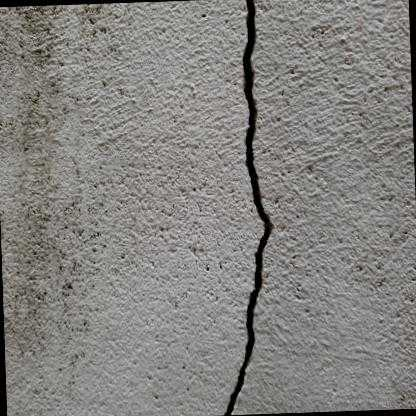crack: (223, 0, 275, 416)
